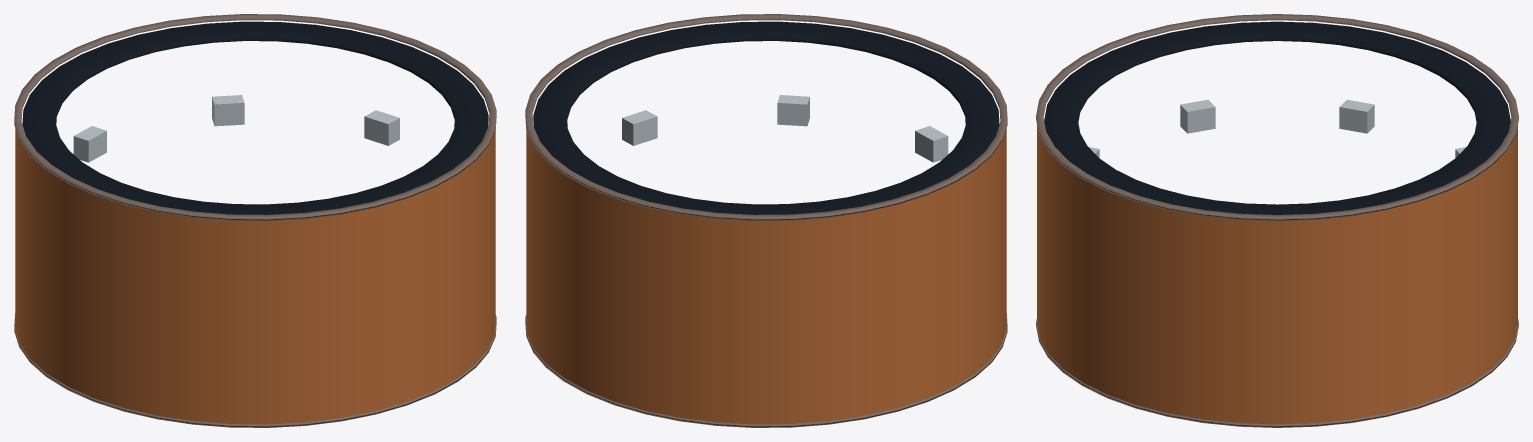
File: sls_core_avionics.glb
The picture shows the model from 3 angles, left to right: view 1: azimuth 30°, elevation 25°; view 2: azimuth 150°, elevation 25°; view 3: azimuth 270°, elevation 25°; orthographic projection.
Parts seen in each view (by area): view 1: sls_coreforward_skirtmesh_Spray-on_insulation, sls_core_avionics.mesh_Shadowed_interior, sls_coreforward_skirtmesh_Heat-stained_alloy, sls_core_avionics.mesh_Satin_aluminum; view 2: sls_coreforward_skirtmesh_Spray-on_insulation, sls_core_avionics.mesh_Shadowed_interior, sls_coreforward_skirtmesh_Heat-stained_alloy, sls_core_avionics.mesh_Satin_aluminum; view 3: sls_coreforward_skirtmesh_Spray-on_insulation, sls_core_avionics.mesh_Shadowed_interior, sls_coreforward_skirtmesh_Heat-stained_alloy, sls_core_avionics.mesh_Satin_aluminum.
Boxes of the visible parts, x1,y1,x2,y2 form: sls_coreforward_skirtmesh_Spray-on_insulation: (15,129,495,424); sls_core_avionics.mesh_Shadowed_interior: (22,21,488,214); sls_coreforward_skirtmesh_Heat-stained_alloy: (14,14,496,427); sls_core_avionics.mesh_Satin_aluminum: (73,95,399,162); sls_coreforward_skirtmesh_Spray-on_insulation: (526,129,1006,424); sls_core_avionics.mesh_Shadowed_interior: (533,21,999,214); sls_coreforward_skirtmesh_Heat-stained_alloy: (525,14,1007,427); sls_core_avionics.mesh_Satin_aluminum: (622,95,948,162); sls_coreforward_skirtmesh_Spray-on_insulation: (1037,125,1517,424); sls_core_avionics.mesh_Shadowed_interior: (1044,21,1510,214); sls_coreforward_skirtmesh_Heat-stained_alloy: (1036,14,1518,427); sls_core_avionics.mesh_Satin_aluminum: (1089,99,1465,157).
Size of the model in its own units: 8.44 by 4.05 by 8.44.
